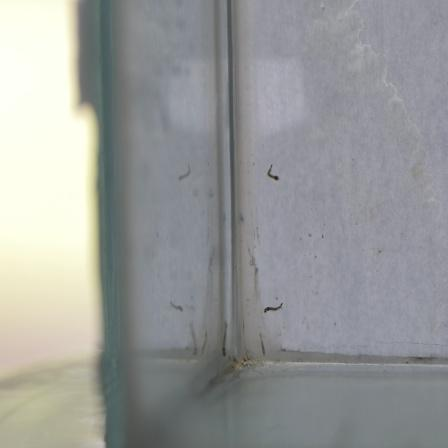Jentik-Nyamuk: (217, 318, 231, 360), (258, 300, 285, 318), (263, 161, 283, 185)
